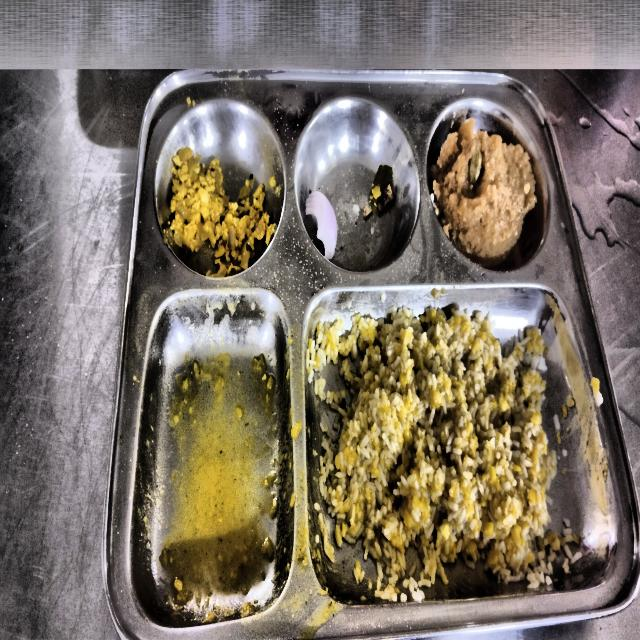tea: (431, 119, 537, 267)
